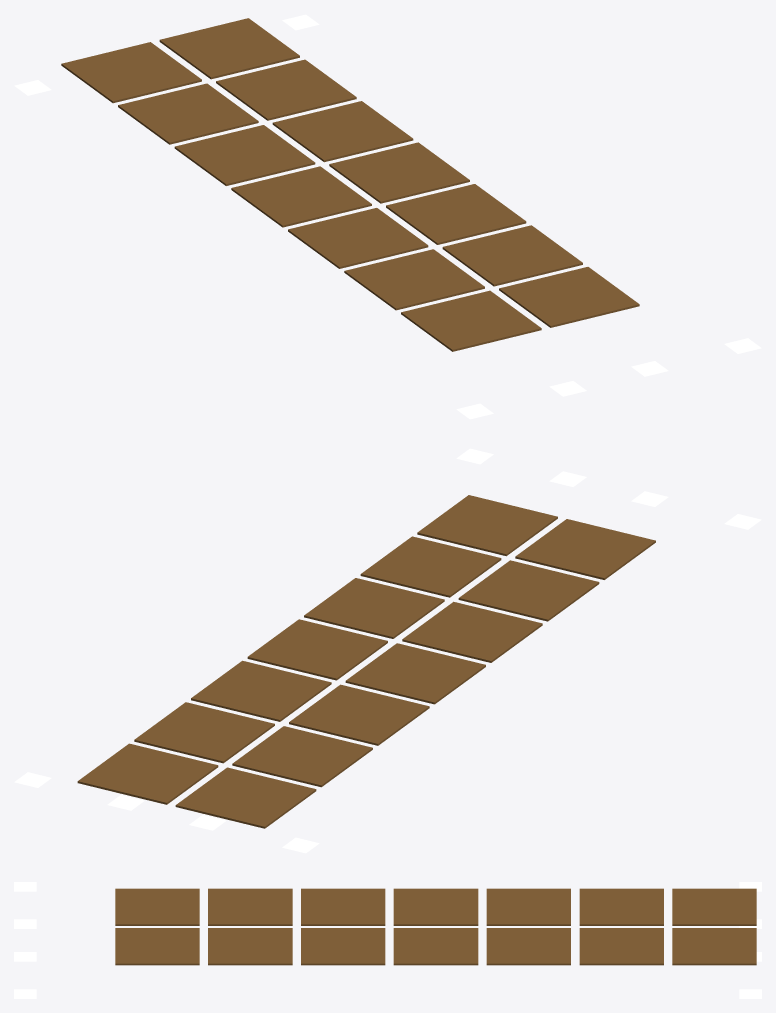
Rendered from lights.gltf.
3 views of the same model, one above another, from view 1: azimuth 30°, elevation 25°; view 2: azimuth 150°, elevation 25°; view 3: azimuth 270°, elevation 25° (orthographic). The views are drawn at different scales.
Visible parts, largest first — view 1: Plane.002; view 2: Plane.002; view 3: Plane.002.
Part boxes in pixels (left/top/right/bottom): Plane.002: left=14, top=14, right=761, bottom=419; Plane.002: left=14, top=448, right=761, bottom=853; Plane.002: left=14, top=882, right=761, bottom=998.
Bounding box in the file's own units: 1.47 × 0.0649 × 3.96.
